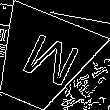M_SW: (7, 28, 76, 93)
